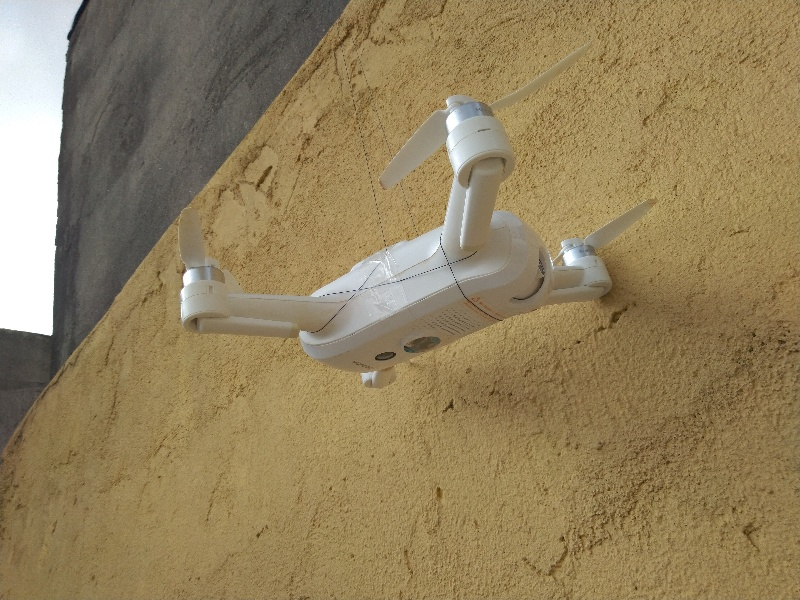drone: (174, 93, 646, 392)
